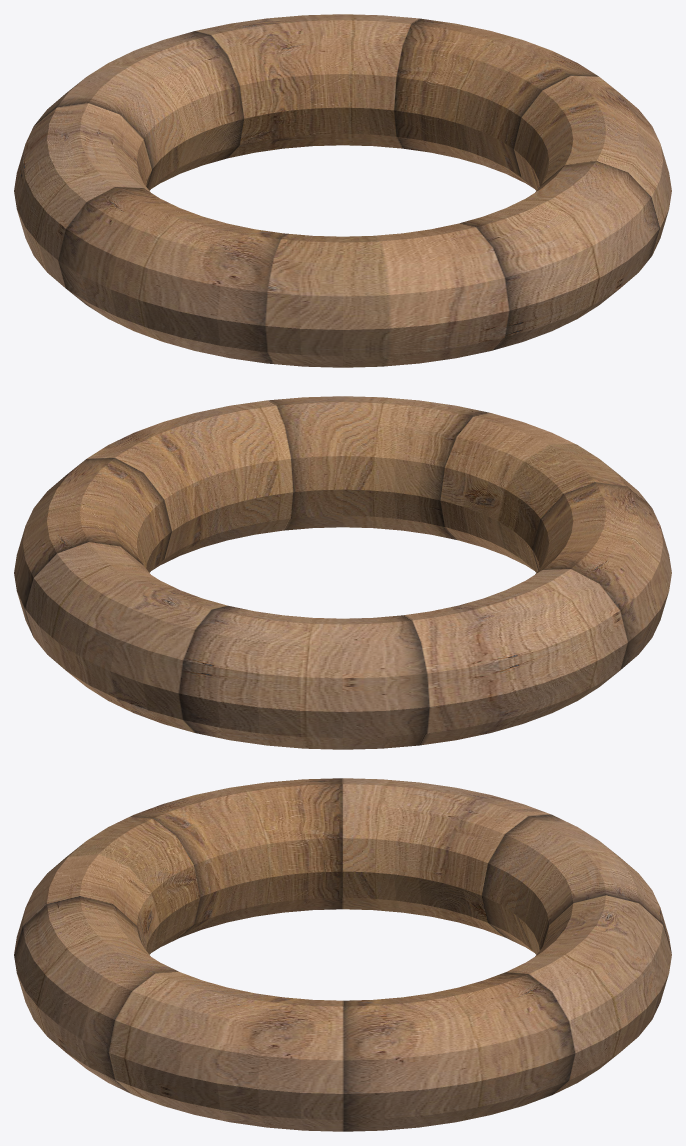
Rendered from tor.obj.
The picture shows the model from 3 angles, top to bottom: view 1: azimuth 30°, elevation 25°; view 2: azimuth 150°, elevation 25°; view 3: azimuth 270°, elevation 25°; orthographic projection.
Parts seen in each view (by area): view 1: Torus; view 2: Torus; view 3: Torus.
Part boxes in pixels (x1=…): Torus: x1=14, y1=14, x2=671, y2=367; Torus: x1=14, y1=396, x2=671, y2=749; Torus: x1=14, y1=778, x2=671, y2=1131.
Bounding box in the file's own units: 2.5 × 0.5 × 2.5.
Materials: 1 (1 with a texture image).
